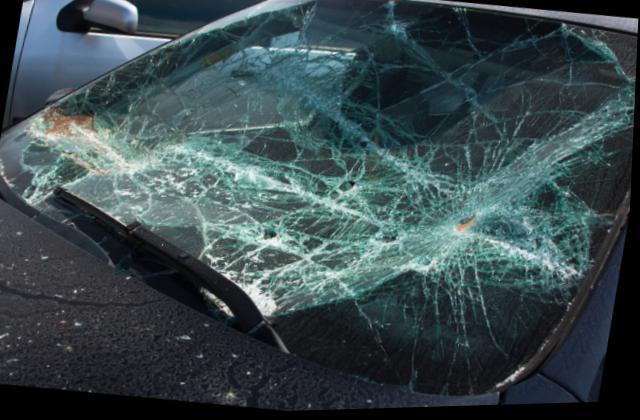glass shatter: (0, 0, 638, 400)
